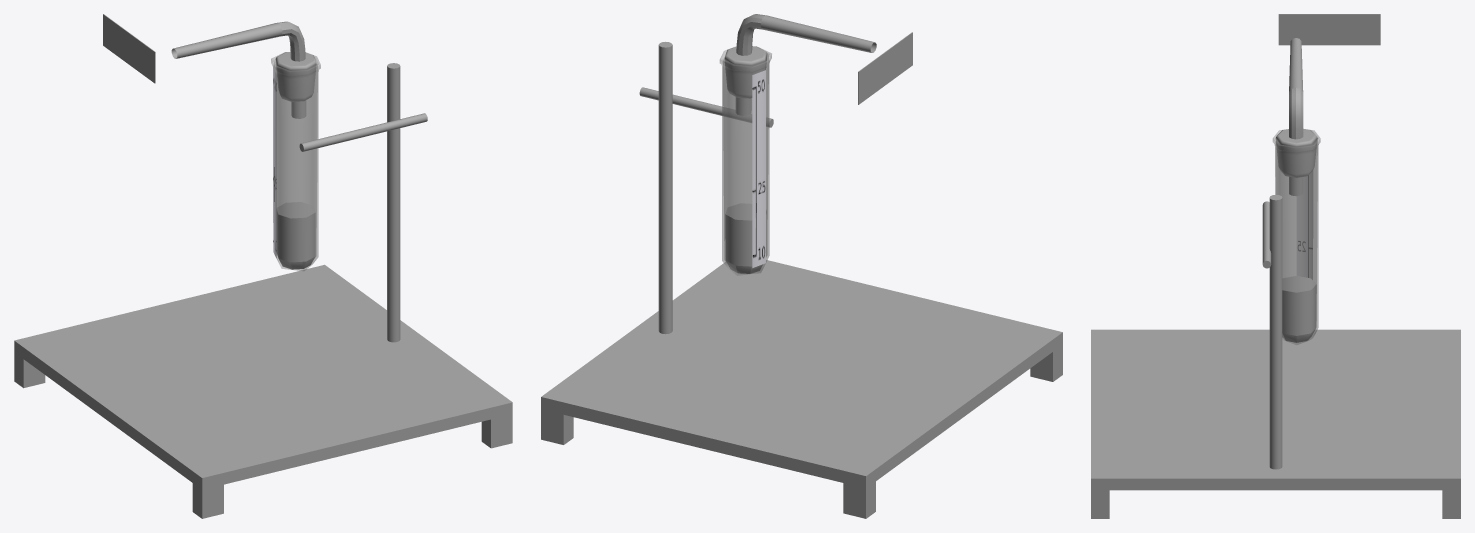
Rendered from Base_in_a_Water_Solution.fbx.
3 views of the same model, side by side, from view 1: azimuth 30°, elevation 25°; view 2: azimuth 150°, elevation 25°; view 3: azimuth 270°, elevation 25° (orthographic). The views are drawn at different scales.
Parts seen in each view (by area): view 1: pCube4, test_tube9, pCylinder33, pCylinder29, pCylinder32, pCube5, pCylinder30, pCylinder34; view 2: pCube4, test_tube9, pCylinder33, pCylinder32, pCylinder29, pCube5, pCylinder30, pCylinder34; view 3: pCube4, test_tube9, pCylinder33, pCube5, pCylinder29, pCylinder32, pCylinder30, pCylinder34.
Boxes of the visible parts, bbox=[...] form: pCube4: bbox=[14, 264, 512, 518]; test_tube9: bbox=[271, 52, 320, 271]; pCylinder33: bbox=[387, 63, 400, 342]; pCylinder29: bbox=[276, 202, 315, 269]; pCylinder32: bbox=[171, 21, 306, 118]; pCube5: bbox=[103, 14, 155, 83]; pCylinder30: bbox=[275, 51, 316, 101]; pCylinder34: bbox=[299, 113, 427, 151]; pCube4: bbox=[541, 260, 1062, 518]; test_tube9: bbox=[719, 46, 771, 275]; pCylinder33: bbox=[658, 41, 672, 334]; pCylinder32: bbox=[735, 14, 876, 115]; pCylinder29: bbox=[725, 203, 766, 273]; pCube5: bbox=[858, 32, 912, 104]; pCylinder30: bbox=[724, 46, 767, 98]; pCylinder34: bbox=[639, 87, 773, 127]; pCube4: bbox=[1091, 329, 1460, 518]; test_tube9: bbox=[1272, 129, 1320, 344]; pCylinder33: bbox=[1269, 195, 1282, 469]; pCube5: bbox=[1278, 14, 1380, 45]; pCylinder29: bbox=[1282, 276, 1316, 342]; pCylinder32: bbox=[1289, 38, 1303, 195]; pCylinder30: bbox=[1275, 129, 1317, 177]; pCylinder34: bbox=[1262, 201, 1271, 268].
Bounding box in the file's own units: 42.28 × 49.76 × 44.01.
3 materials, 1 textured.
